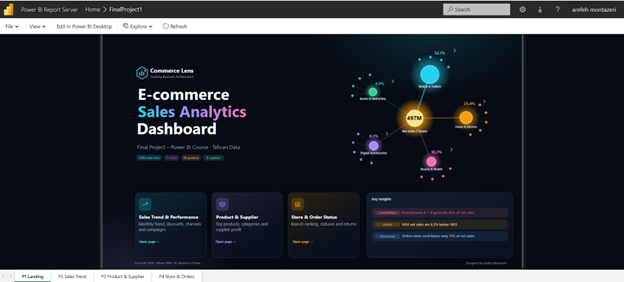

The page's visual inventory and layout, read from the dashboard file:
{"tool":"powerbi","page":{"name":"P1 Landing ","canvas":[1920,1080],"ordinal":0},"visuals":[{"type":"textbox","box":[213.6,144.5,300,90],"z":0},{"type":"textbox","box":[515,818.3,333.3,65],"z":1000},{"type":"textbox","box":[860,818.3,333.3,65],"z":2000},{"type":"textbox","box":[157.4,219.1,648.9,127.7],"z":3000},{"type":"textbox","box":[513.3,851.7,308.3,65],"z":4000},{"type":"textbox","box":[858.3,851.7,308.3,65],"z":5000},{"type":"textbox","box":[154.4,495.8,528.3,43.3],"z":6000},{"type":"image","box":[516.7,751.7,63.3,58.3],"z":7000},{"type":"image","box":[861.7,751.7,63.3,58.3],"z":8000},{"type":"shape","title":"fffffff","box":[154.4,554.1,120,26.7],"z":9000},{"type":"shape","title":"fffffff","box":[281,554.1,71.7,26.7],"z":10000},{"type":"shape","title":"fffffff","box":[359.4,554.1,93.3,26.7],"z":11000},{"type":"shape","title":"fffffff","box":[459.4,554.1,100,26.7],"z":12000},{"type":"textbox","box":[161.7,818.3,333.3,65],"z":13000},{"type":"textbox","box":[160,851.7,308.3,65],"z":14000},{"type":"image","box":[163.3,751.7,63.3,58.3],"z":15000},{"type":"textbox","box":[157.4,297.9,629.8,146.8],"z":16000},{"type":"textbox","box":[153.2,376.6,648.9,127.7],"z":17000},{"type":"actionButton","box":[163.8,931.9,100,40.4],"z":18000},{"type":"actionButton","box":[513.6,931.8,100,40.9],"z":19000},{"type":"actionButton","box":[868.2,931.8,100,40.9],"z":20000},{"type":"textbox","box":[1367.1,910,357.1,32.9],"z":21000},{"type":"textbox","box":[1365,856.7,358.3,33.3],"z":22000},{"type":"textbox","box":[1365,801.7,358.3,33.3],"z":23000},{"type":"card","fields":{"Values":["Fact_OrderLines.Net Sales"]},"box":[1378.3,346.7,100,78.3],"z":24000},{"type":"cardVisual","fields":{"Rows":["Dim_Product.Category"],"Data":["Dim_Product.% Beauty & Health"]},"box":[1446.7,495,166.7,71.7],"z":25000},{"type":"cardVisual","fields":{"Rows":["Dim_Product.Category"],"Data":["Dim_Product.% Books & Stationery"]},"box":[1193.3,181.7,150,73.3],"z":26000},{"type":"cardVisual","fields":{"Rows":["Dim_Product.Category"],"Data":["Dim_Product.% Digital Accessories"]},"box":[1166.7,421.7,150,73.3],"z":27000},{"type":"cardVisual","fields":{"Rows":["Dim_Product.Category"],"Data":["Dim_Product.% Mobile & Tablets"]},"box":[1460,38.3,168.3,75],"z":28000},{"type":"cardVisual","fields":{"Rows":["Dim_Product.Category"],"Data":["Dim_Product.% Home & Kitchen"]},"box":[1596.7,271.7,168.3,75],"z":29000}]}

Visuals, with their boxes on the page's 1920x1080 design canvas (x1, y1, x2, y2). These are canvas units, not pixel positions in the 624x282 screenshot, which may show the page scaled, cropped or inside an application window:
textbox: <region>214, 144, 514, 234</region>
textbox: <region>515, 818, 848, 883</region>
textbox: <region>860, 818, 1193, 883</region>
textbox: <region>157, 219, 806, 347</region>
textbox: <region>513, 852, 822, 917</region>
textbox: <region>858, 852, 1167, 917</region>
textbox: <region>154, 496, 683, 539</region>
image: <region>517, 752, 580, 810</region>
image: <region>862, 752, 925, 810</region>
"fffffff" shape: <region>154, 554, 274, 581</region>
"fffffff" shape: <region>281, 554, 353, 581</region>
"fffffff" shape: <region>359, 554, 453, 581</region>
"fffffff" shape: <region>459, 554, 559, 581</region>
textbox: <region>162, 818, 495, 883</region>
textbox: <region>160, 852, 468, 917</region>
image: <region>163, 752, 227, 810</region>
textbox: <region>157, 298, 787, 445</region>
textbox: <region>153, 377, 802, 504</region>
actionButton: <region>164, 932, 264, 972</region>
actionButton: <region>514, 932, 614, 973</region>
actionButton: <region>868, 932, 968, 973</region>
textbox: <region>1367, 910, 1724, 943</region>
textbox: <region>1365, 857, 1723, 890</region>
textbox: <region>1365, 802, 1723, 835</region>
card - Fact_OrderLines.Net Sales: <region>1378, 347, 1478, 425</region>
cardVisual - Dim_Product.Category x Dim_Product.% Beauty & Health: <region>1447, 495, 1613, 567</region>
cardVisual - Dim_Product.Category x Dim_Product.% Books & Stationery: <region>1193, 182, 1343, 255</region>
cardVisual - Dim_Product.Category x Dim_Product.% Digital Accessories: <region>1167, 422, 1317, 495</region>
cardVisual - Dim_Product.Category x Dim_Product.% Mobile & Tablets: <region>1460, 38, 1628, 113</region>
cardVisual - Dim_Product.Category x Dim_Product.% Home & Kitchen: <region>1597, 272, 1765, 347</region>
